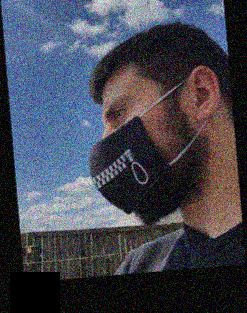with_mask: (88, 88, 182, 218)
